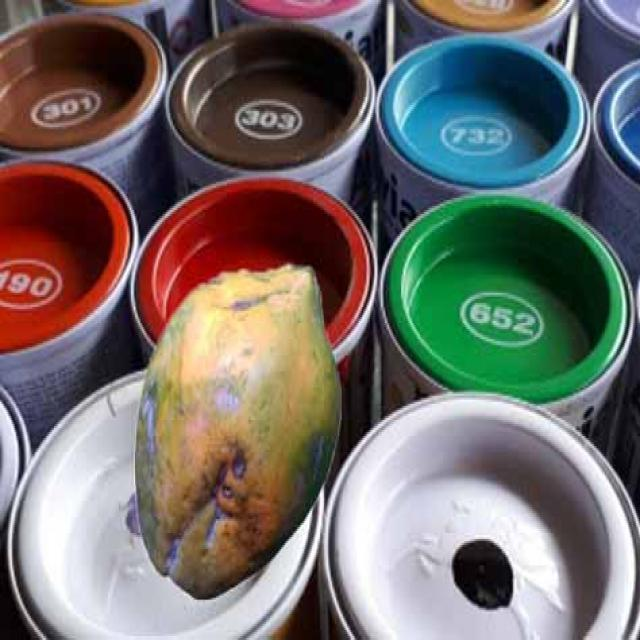Pepaya rippen: (126, 254, 344, 594)
